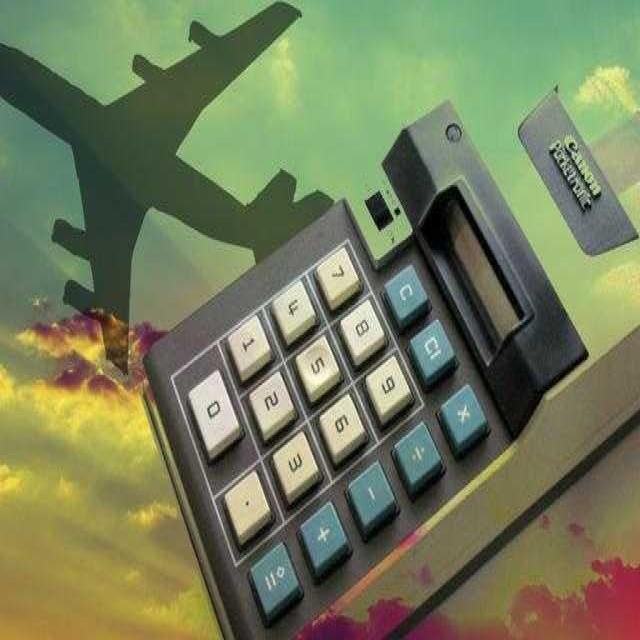Calculator: (138, 86, 637, 636)
